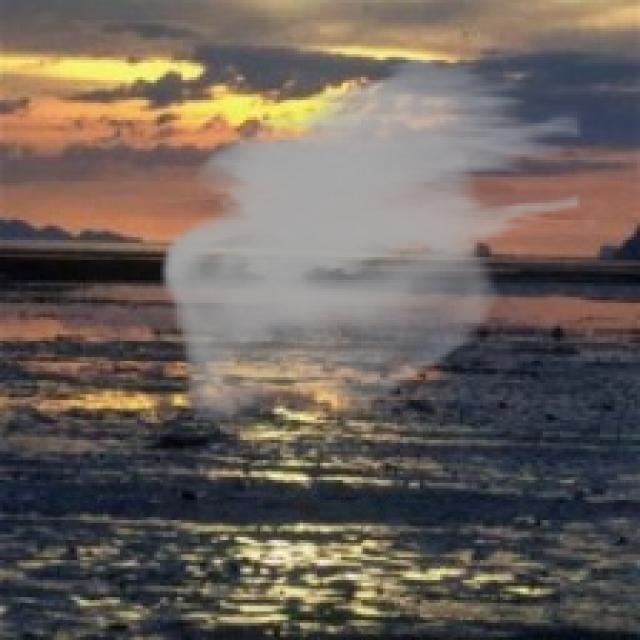smoke: (160, 54, 583, 423)
